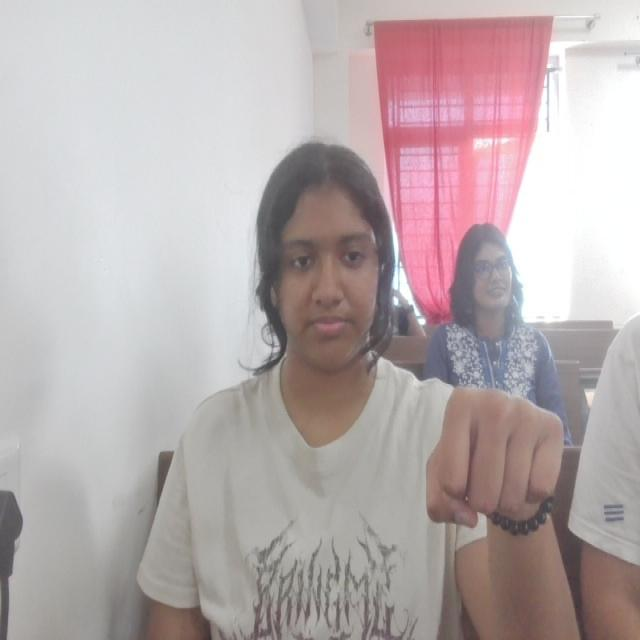yes: (420, 379, 569, 534)
